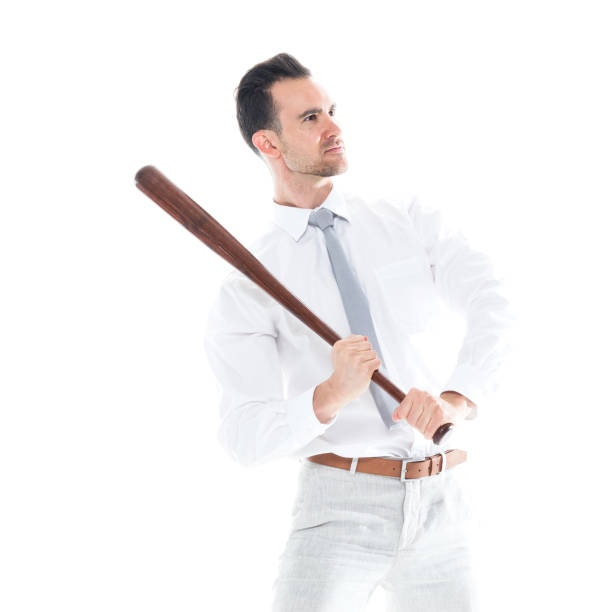bita: (129, 169, 461, 438)
